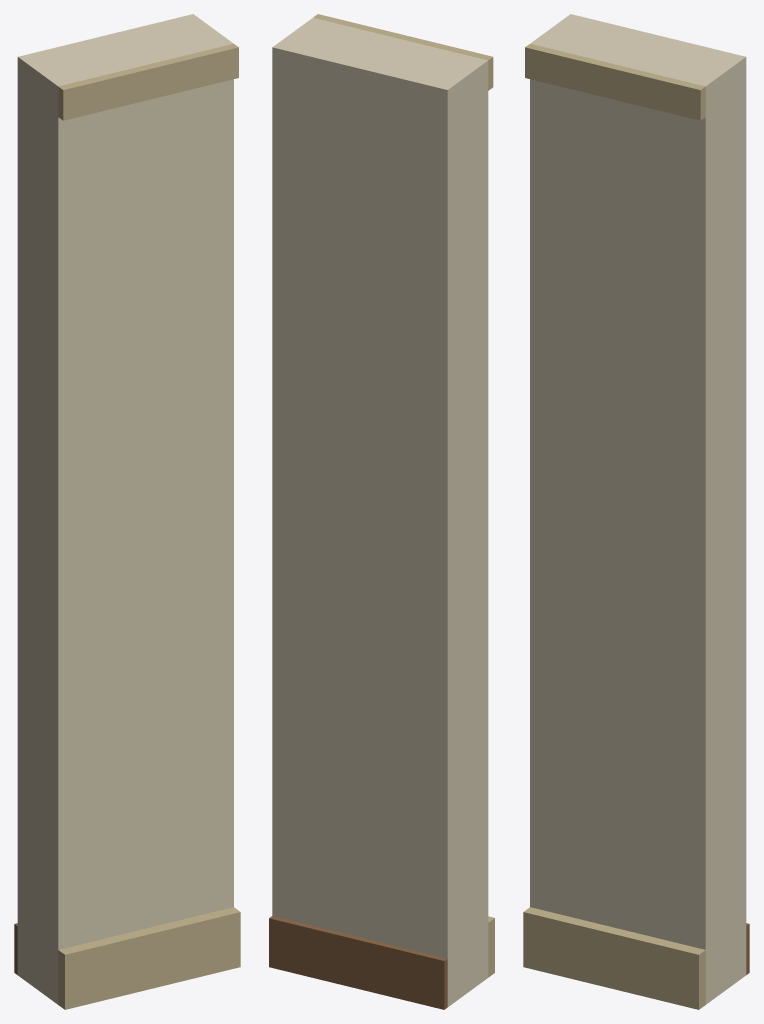
Rendered from rpg-mansion-plain-plaster-filler-600-01.glb.
3 renders of one model, left to right at view 1: azimuth 30°, elevation 25°; view 2: azimuth 150°, elevation 25°; view 3: azimuth 330°, elevation 25°, orthographic.
Parts seen in each view (by area): view 1: rpg-mansion-plain-plaster-filler-600-01; view 2: rpg-mansion-plain-plaster-filler-600-01; view 3: rpg-mansion-plain-plaster-filler-600-01.
Boxes of the visible parts, <box> form: rpg-mansion-plain-plaster-filler-600-01: <box>14,14,240,1009</box>; rpg-mansion-plain-plaster-filler-600-01: <box>269,14,494,1009</box>; rpg-mansion-plain-plaster-filler-600-01: <box>523,14,749,1009</box>.
Size of the model in its own units: 0.6 by 3 by 0.3.
